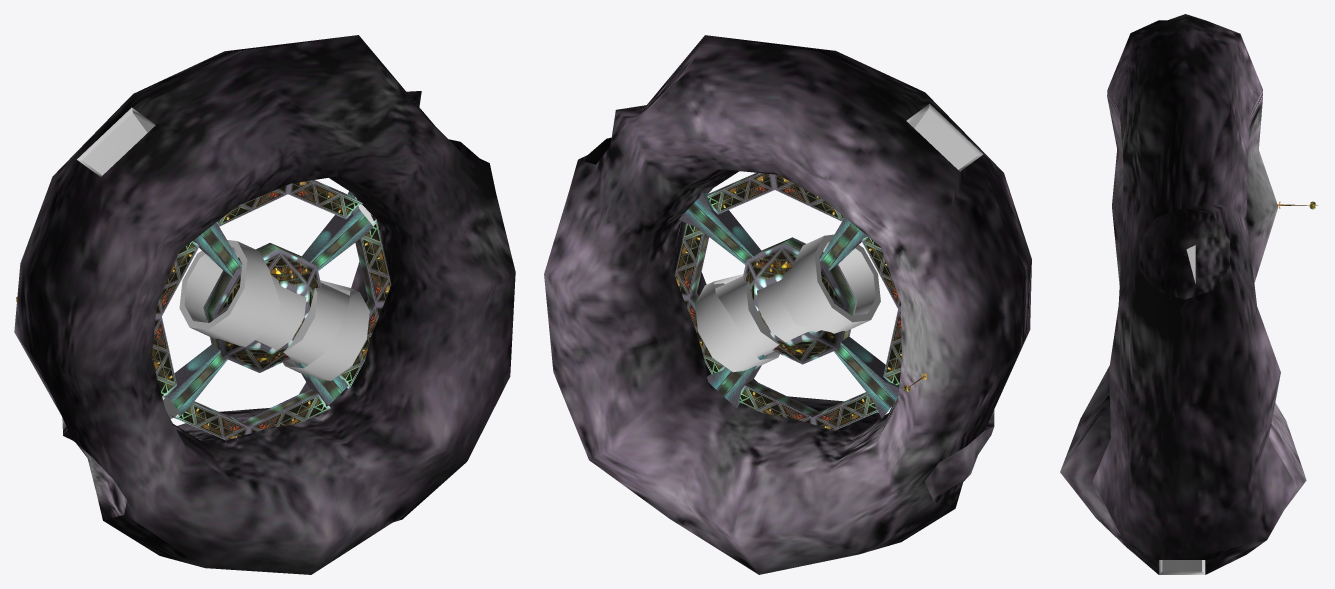
3 renders of one model, left to right at view 1: azimuth 30°, elevation 25°; view 2: azimuth 150°, elevation 25°; view 3: azimuth 270°, elevation 25°, orthographic. The views are drawn at different scales.
Visible parts, largest first — view 1: frm-tarus1, frm-LAUNCH_TUBE_1, frm-LAUNCH_TUBE, frm-mfuselg, frm-corrdr2, frm-corrdr3, frm-corrdr4, frm-corrdr1, frm-corrdr9, frm-corrdr11, frm-corrdr6, frm-corrdr10; view 2: frm-tarus1, frm-LAUNCH_TUBE_1, frm-LAUNCH_TUBE, frm-mfuselg, frm-corrdr2, frm-corrdr4, frm-corrdr9, frm-corrdr3, frm-corrdr11, frm-corrdr1, frm-corrdr6, frm-corrdr10; view 3: frm-tarus1.
Boxes of the visible parts, bbox=[...] form: frm-tarus1: bbox=[14, 35, 515, 574]; frm-LAUNCH_TUBE_1: bbox=[179, 240, 306, 350]; frm-LAUNCH_TUBE: bbox=[283, 280, 369, 380]; frm-mfuselg: bbox=[203, 243, 321, 372]; frm-corrdr2: bbox=[169, 388, 330, 440]; frm-corrdr3: bbox=[338, 214, 391, 389]; frm-corrdr4: bbox=[216, 180, 362, 226]; frm-corrdr1: bbox=[151, 241, 199, 399]; frm-corrdr9: bbox=[302, 191, 373, 270]; frm-corrdr11: bbox=[163, 344, 227, 418]; frm-corrdr6: bbox=[193, 222, 241, 276]; frm-corrdr10: bbox=[295, 363, 348, 406]; frm-tarus1: bbox=[544, 35, 1031, 574]; frm-LAUNCH_TUBE_1: bbox=[757, 234, 880, 342]; frm-LAUNCH_TUBE: bbox=[695, 274, 779, 372]; frm-mfuselg: bbox=[742, 237, 857, 364]; frm-corrdr2: bbox=[739, 380, 877, 430]; frm-corrdr4: bbox=[707, 172, 843, 221]; frm-corrdr9: bbox=[679, 192, 761, 264]; frm-corrdr3: bbox=[674, 223, 725, 373]; frm-corrdr11: bbox=[834, 336, 899, 418]; frm-corrdr1: bbox=[861, 236, 901, 385]; frm-corrdr6: bbox=[819, 217, 867, 270]; frm-corrdr10: bbox=[706, 354, 767, 408]; frm-tarus1: bbox=[1060, 14, 1306, 574].
Size of what is drawn, in the model's own units: 54.45 by 57.4 by 26.91.
